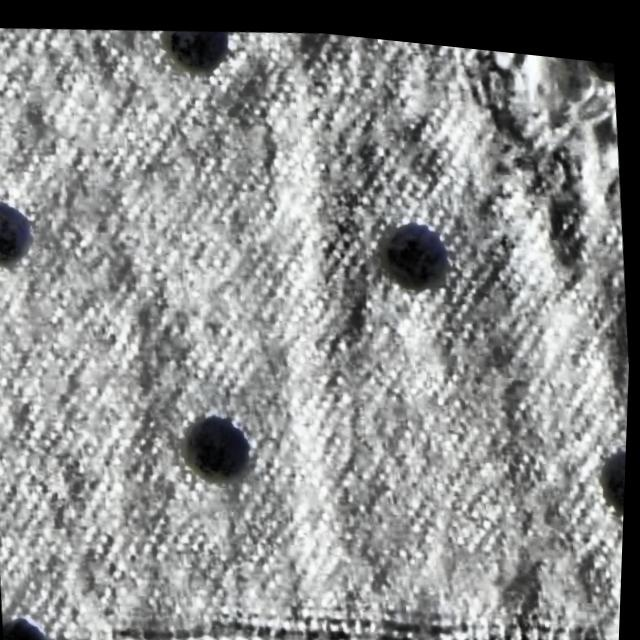Stitch: (0, 551, 616, 640), (459, 48, 628, 167)
